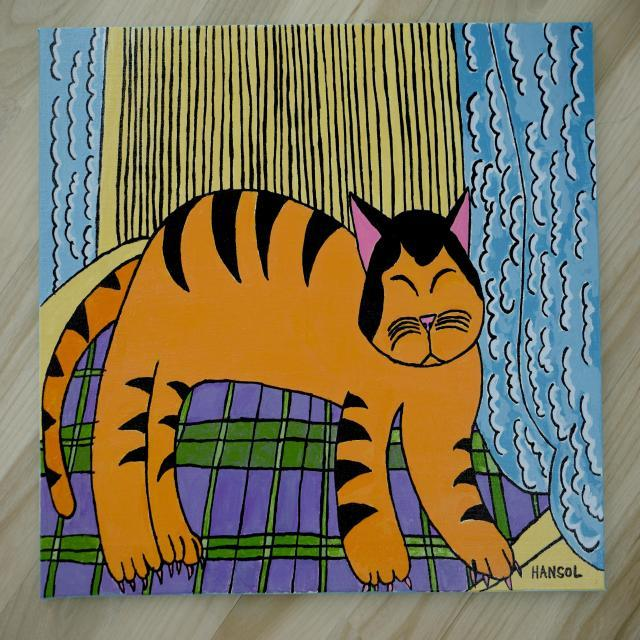painting: (40, 24, 604, 596)
